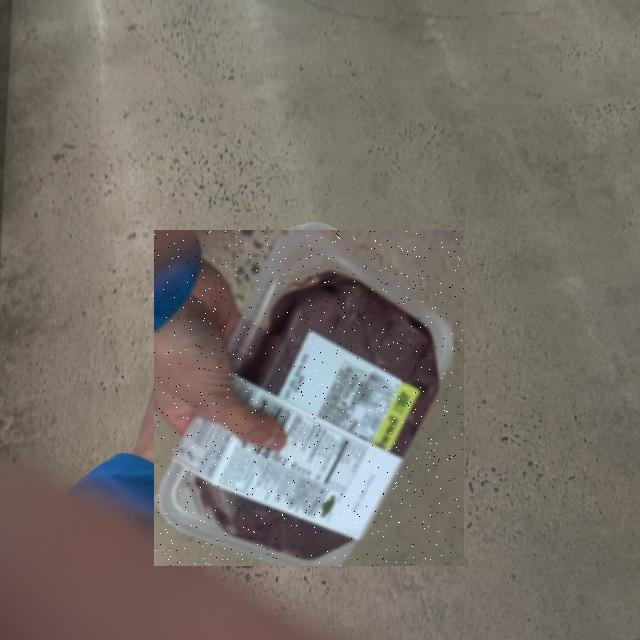Meat: (154, 230, 464, 566)
